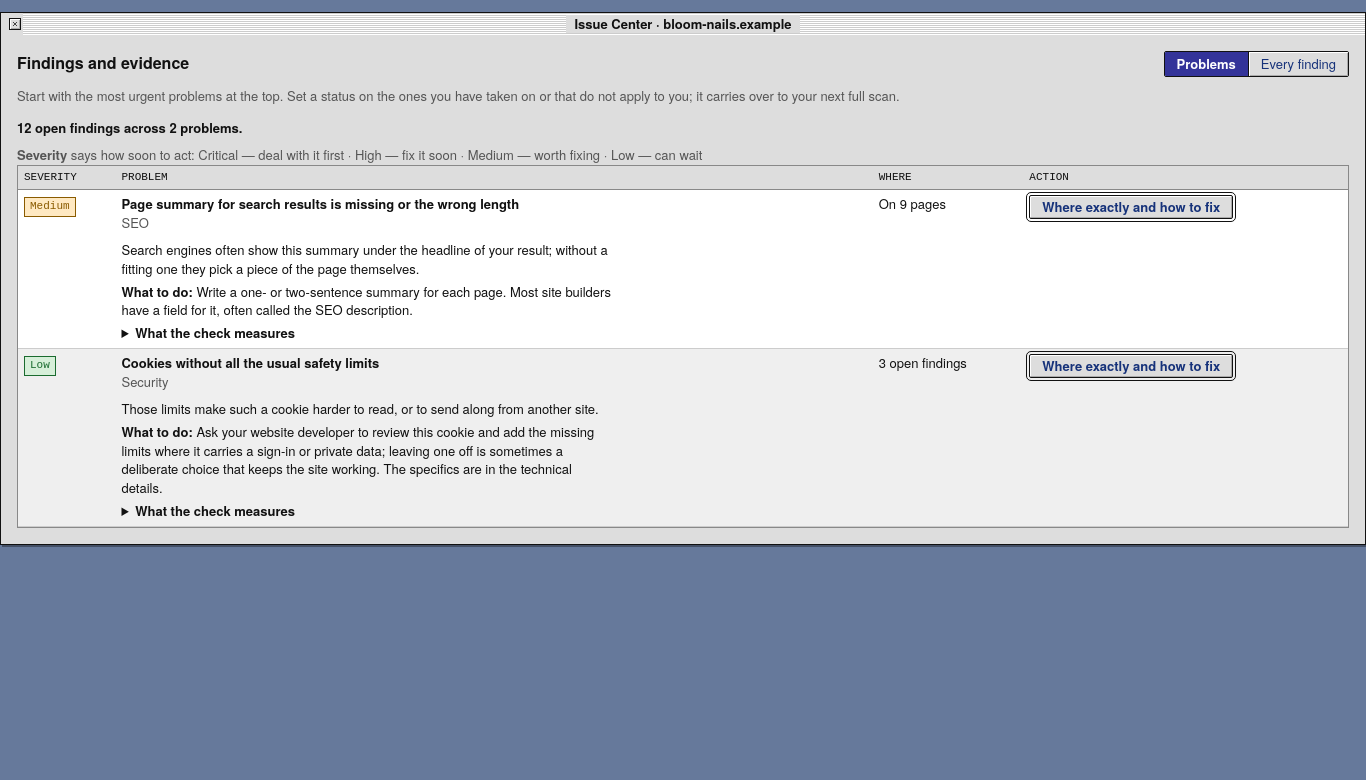
Test: the Problems tab, pressed while one problem is open › does the same from the Every finding tab
Click the button "Where exactly and how to fix" next to "On 9 pages" at (1131, 207), box [1029,195,1233,219]
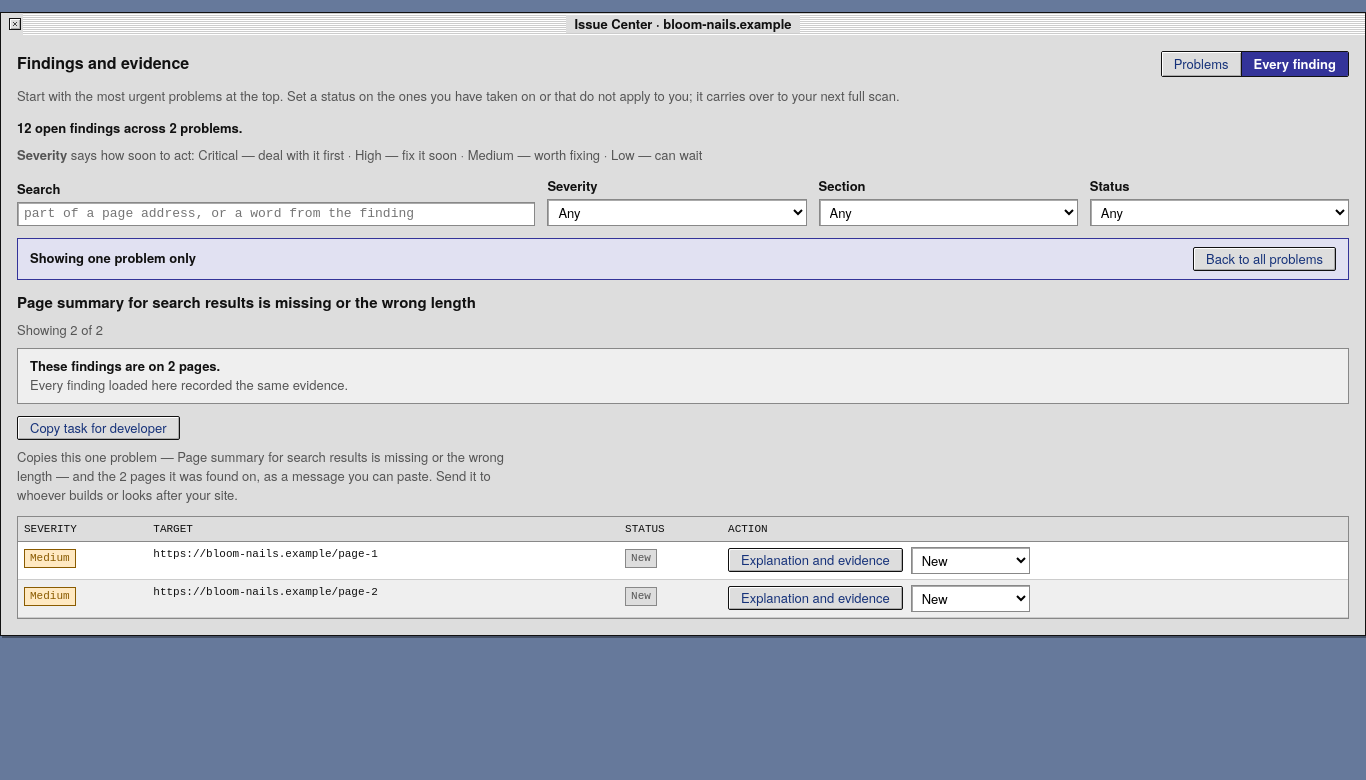
Now the text "Showing one problem only" is shown, box [30,249,196,268]
Click the button "Every finding" at (1295, 64), box [1242,52,1348,76]
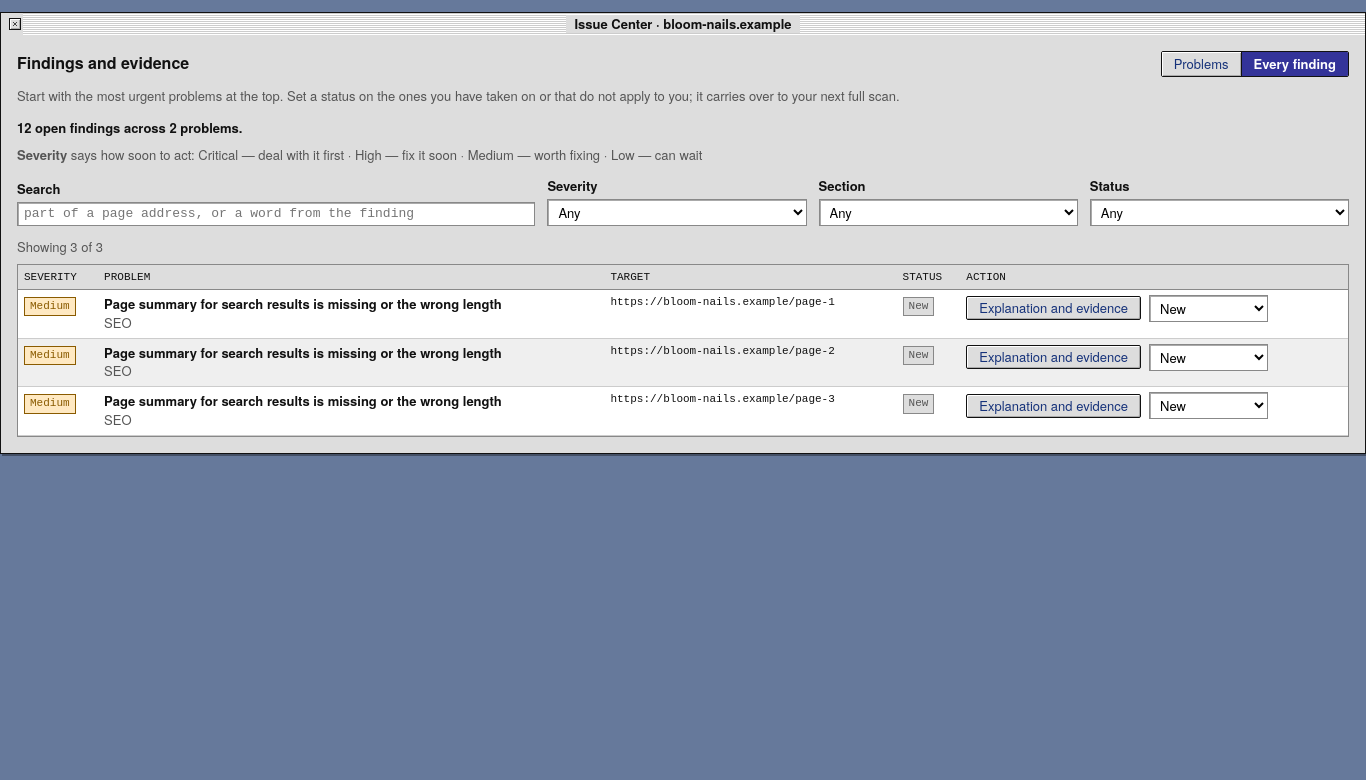
Now the text "Showing one problem only" is gone
